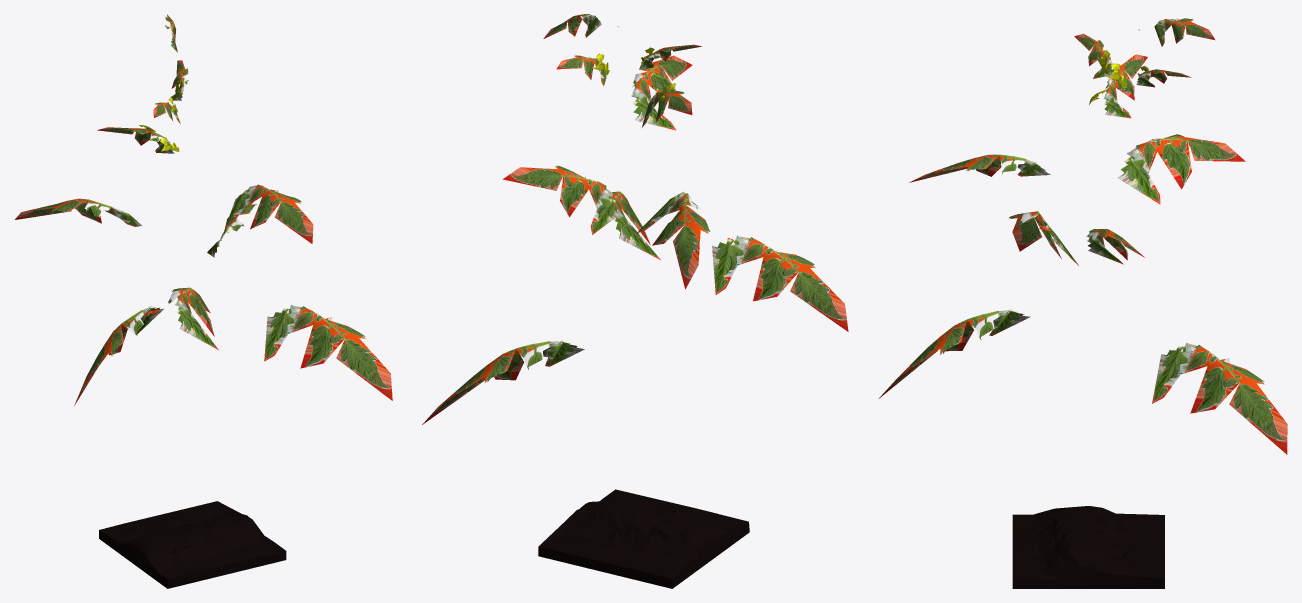
File: bedeng_tomat_1_watered.obj
3 views of the same model, side by side, from view 1: azimuth 30°, elevation 25°; view 2: azimuth 150°, elevation 25°; view 3: azimuth 270°, elevation 25° (orthographic). The views are drawn at different scales.
Visible parts, largest first — view 1: Pohon_Tomat_2_tomato-plant.005, PP_Meadow_Path_05_Scene.006; view 2: Pohon_Tomat_2_tomato-plant.005, PP_Meadow_Path_05_Scene.006; view 3: Pohon_Tomat_2_tomato-plant.005, PP_Meadow_Path_05_Scene.006.
Part boxes in pixels (left/top/right/bottom): Pohon_Tomat_2_tomato-plant.005: left=15, top=14, right=392, bottom=405; PP_Meadow_Path_05_Scene.006: left=99, top=501, right=286, bottom=588; Pohon_Tomat_2_tomato-plant.005: left=422, top=14, right=848, bottom=424; PP_Meadow_Path_05_Scene.006: left=538, top=489, right=749, bottom=588; Pohon_Tomat_2_tomato-plant.005: left=879, top=18, right=1287, bottom=454; PP_Meadow_Path_05_Scene.006: left=1012, top=506, right=1164, bottom=588.
Bounding box in the file's own units: 2.26 × 3.98 × 2.69.
